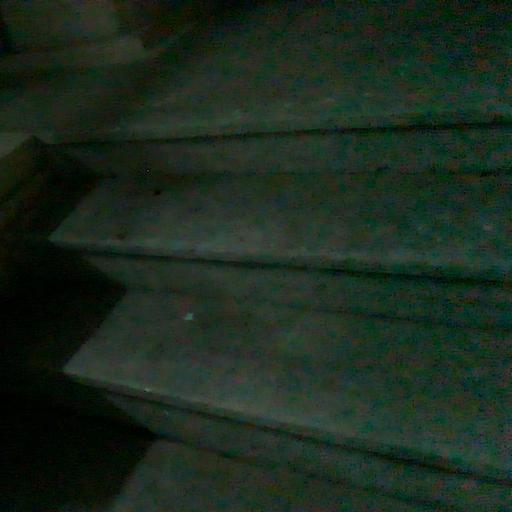Stairs: (52, 72, 512, 512)
